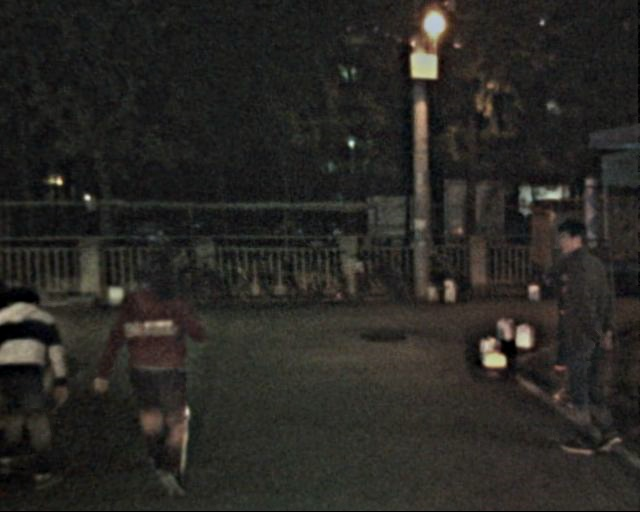person: (116, 243, 215, 493), (547, 215, 621, 451), (1, 276, 82, 469)
